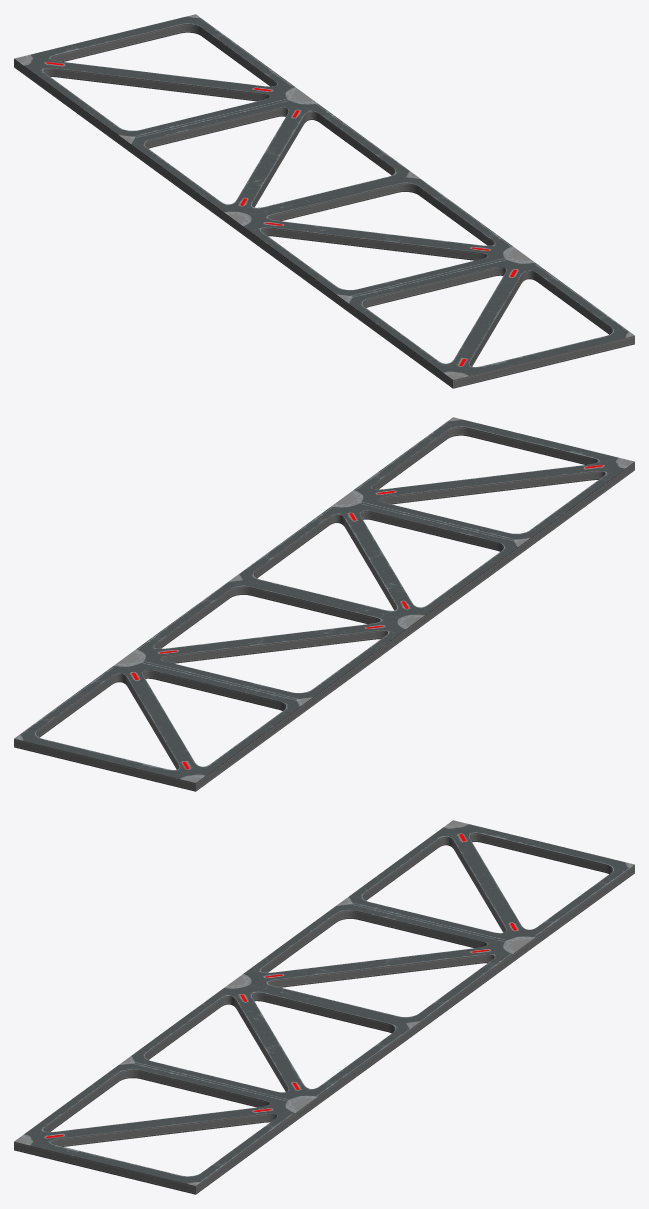
Rendered from Column_MetalSupport.gltf.
3 renders of one model, top to bottom at view 1: azimuth 30°, elevation 25°; view 2: azimuth 150°, elevation 25°; view 3: azimuth 330°, elevation 25°, orthographic.
Visible parts, largest first — view 1: Column_MetalSupport; view 2: Column_MetalSupport; view 3: Column_MetalSupport.
Part boxes in pixels (x1,y1,x2,y2): Column_MetalSupport: [14, 14, 634, 388]; Column_MetalSupport: [14, 417, 634, 791]; Column_MetalSupport: [14, 820, 634, 1194].
Size of the model in its own units: 0.9566 by 0.044 by 4.
Materials: 2 (2 with a texture image).
